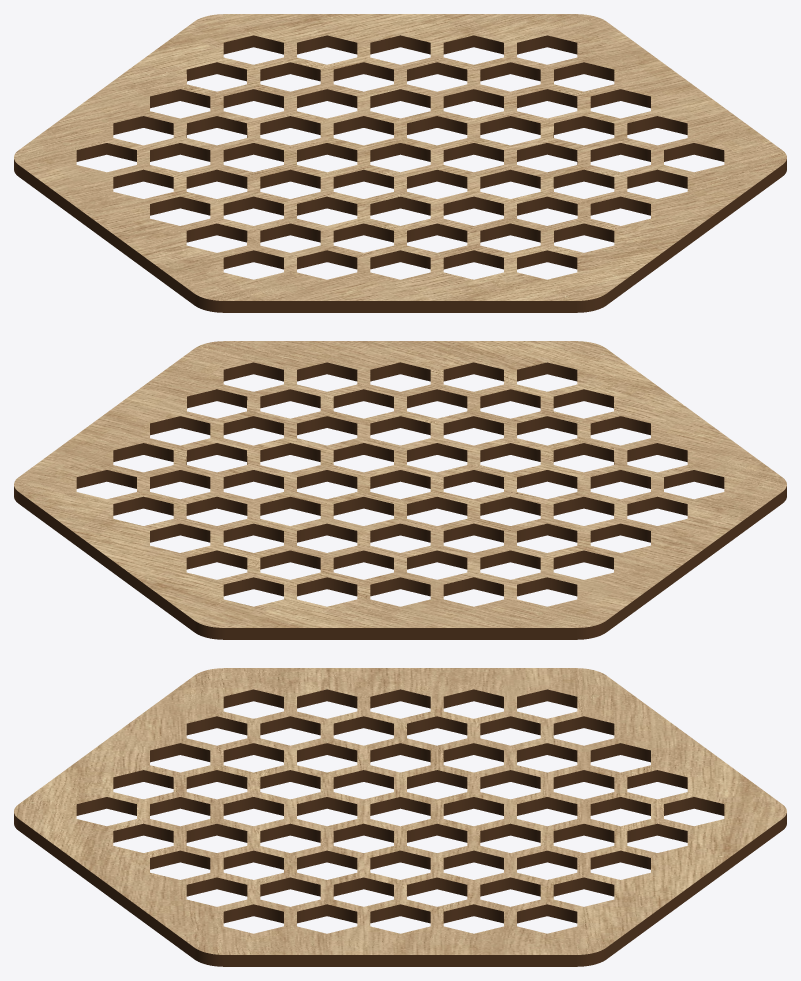
Rendered from honeycomb-trivet.glb.
3 views of the same model, one above another, from view 1: azimuth 30°, elevation 25°; view 2: azimuth 150°, elevation 25°; view 3: azimuth 270°, elevation 25° (orthographic).
Parts seen in each view (by area): view 1: body0; view 2: body0; view 3: body0.
Part boxes in pixels (left/top/right/bottom): body0: left=14, top=14, right=786, bottom=312; body0: left=14, top=341, right=786, bottom=639; body0: left=14, top=668, right=786, bottom=966.
Bounding box in the file's own units: 0.1559 × 0.003 × 0.1775.
2 materials, 1 textured.
